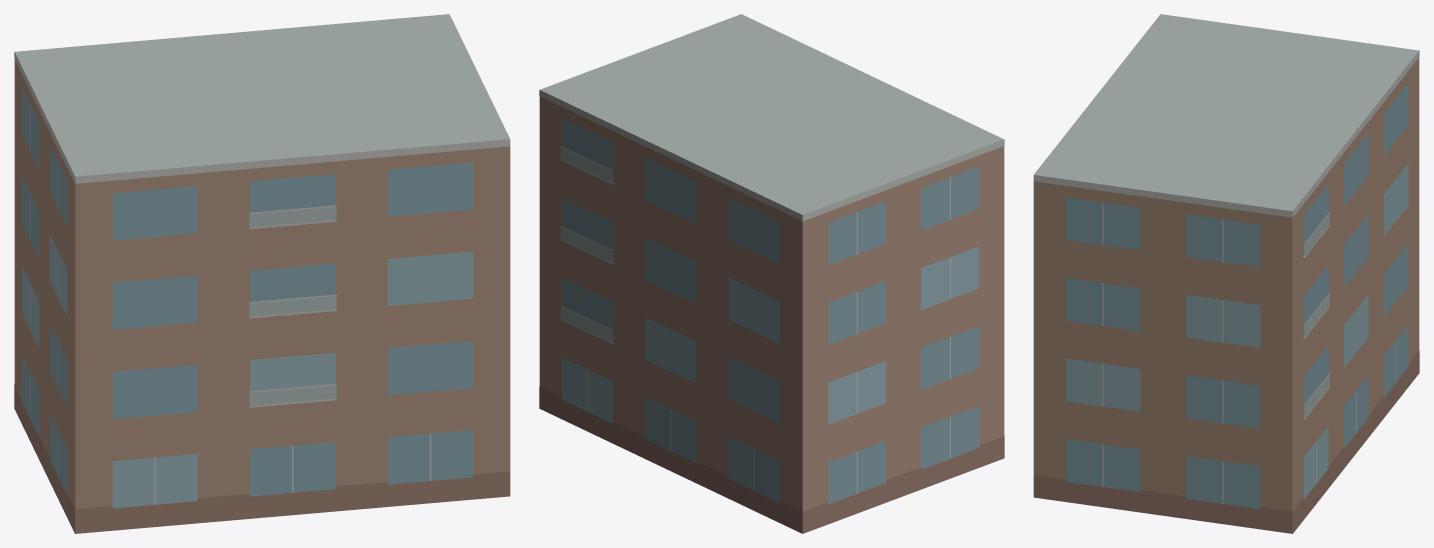
Rendered from residential-57f93c9f-38dd-4da4-8eb0-e3fd1411dd2f.glb.
The picture shows the model from 3 angles, left to right: view 1: azimuth 30°, elevation 25°; view 2: azimuth 150°, elevation 25°; view 3: azimuth 270°, elevation 25°; orthographic projection. The views are drawn at different scales.
Visible parts, largest first — view 1: residential-57f93c9f-38dd-4da4-8eb0-e3fd1411dd2f.tmp; view 2: residential-57f93c9f-38dd-4da4-8eb0-e3fd1411dd2f.tmp; view 3: residential-57f93c9f-38dd-4da4-8eb0-e3fd1411dd2f.tmp.
Part boxes in pixels (<box>): residential-57f93c9f-38dd-4da4-8eb0-e3fd1411dd2f.tmp: <box>14,14,510,533</box>; residential-57f93c9f-38dd-4da4-8eb0-e3fd1411dd2f.tmp: <box>539,14,1004,533</box>; residential-57f93c9f-38dd-4da4-8eb0-e3fd1411dd2f.tmp: <box>1033,14,1419,533</box>.
Bounding box in the file's own units: 16.01 × 12.2 × 13.24.
